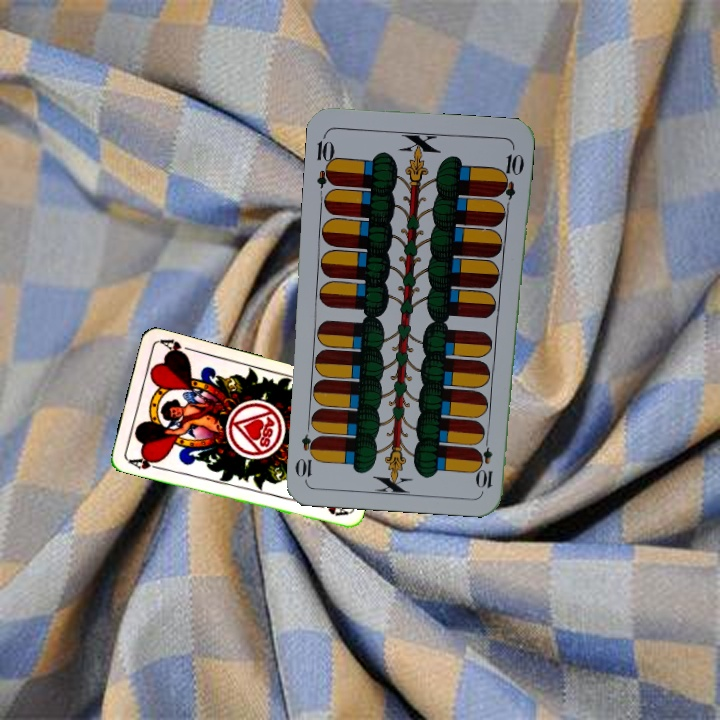E10: (312, 130, 339, 190), (476, 432, 495, 491)
HA: (124, 452, 164, 472)
